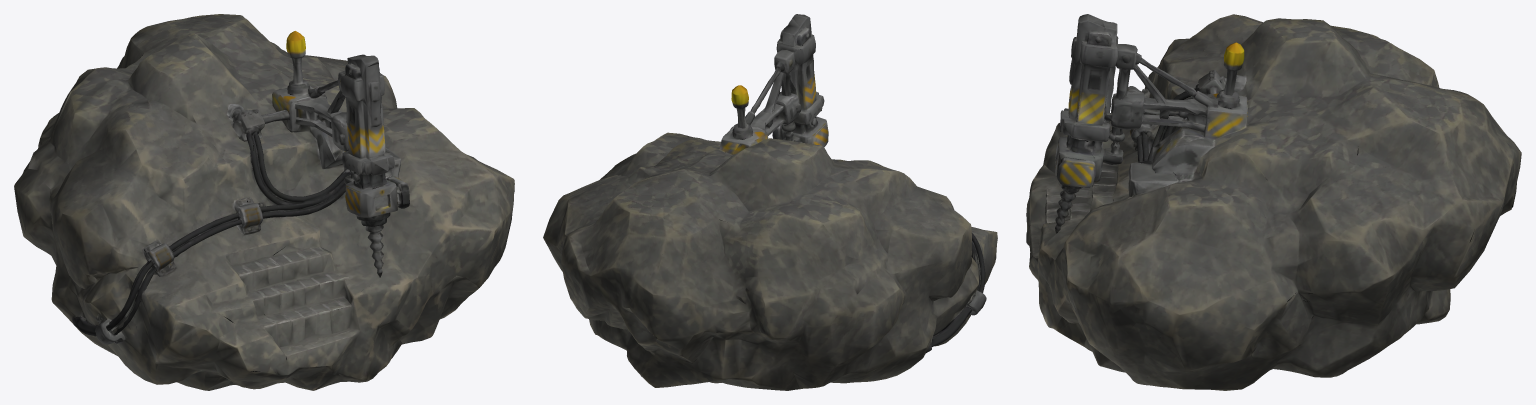
File: 02_mining_cover_asteroid.fbx
3 renders of one model, left to right at view 1: azimuth 30°, elevation 25°; view 2: azimuth 150°, elevation 25°; view 3: azimuth 270°, elevation 25°, orthographic. The views are drawn at different scales.
Visible parts, largest first — view 1: 02_mining_cover_asteroid; view 2: 02_mining_cover_asteroid; view 3: 02_mining_cover_asteroid.
Part boxes in pixels (bbox=[...]): 02_mining_cover_asteroid: bbox=[14, 14, 514, 390]; 02_mining_cover_asteroid: bbox=[543, 14, 997, 390]; 02_mining_cover_asteroid: bbox=[1026, 14, 1521, 390].
Bounding box in the file's own units: 10 × 7.42 × 9.65.
Materials: 1 (1 with a texture image).
